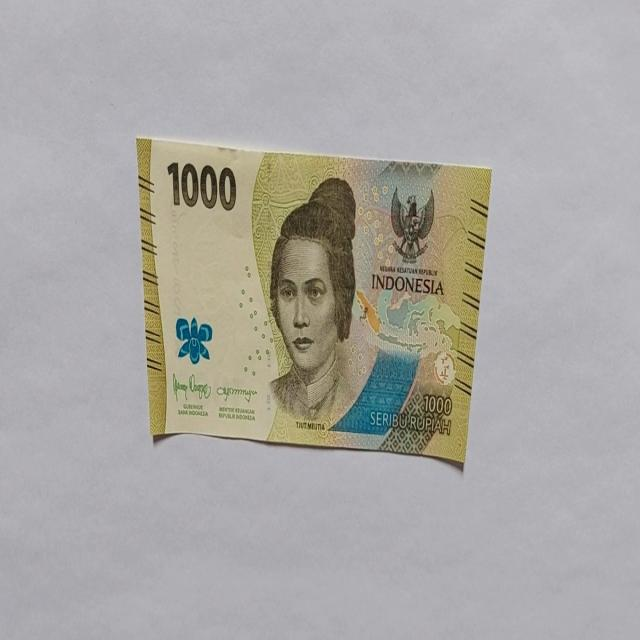seribu rupiah kertas: (136, 134, 492, 470)
